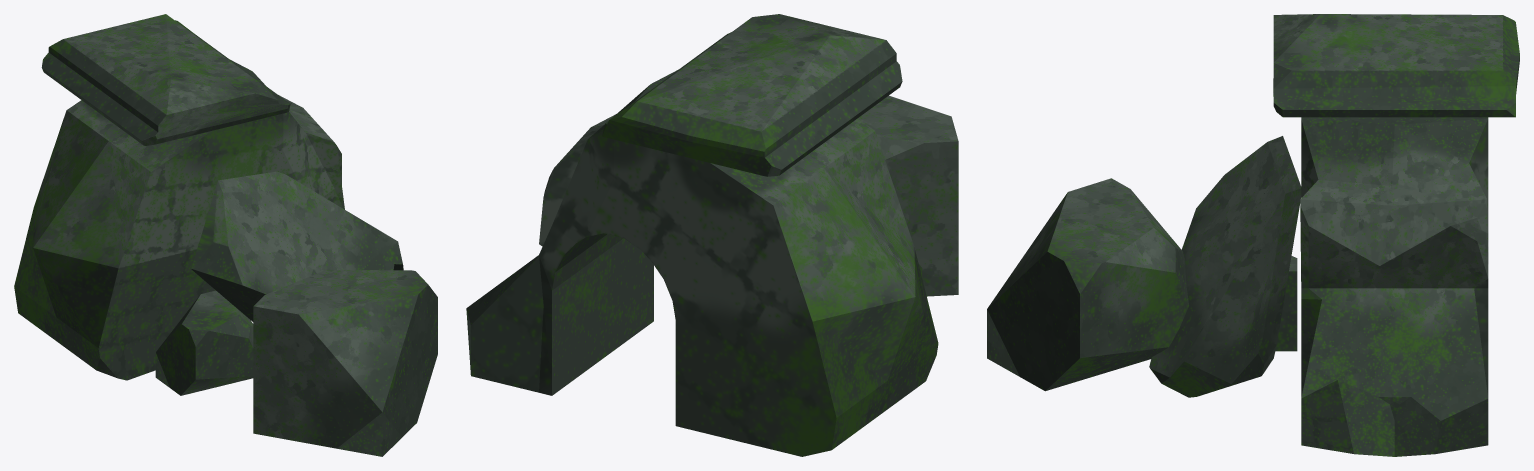
The model's file is castle_door_ruin.fbx.
3 views of the same model, side by side, from view 1: azimuth 30°, elevation 25°; view 2: azimuth 150°, elevation 25°; view 3: azimuth 270°, elevation 25° (orthographic). The views are drawn at different scales.
Parts seen in each view (by area): view 1: Porte en ruine; view 2: Porte en ruine; view 3: Porte en ruine.
Part boxes in pixels (bbox=[...]): Porte en ruine: bbox=[14, 14, 437, 456]; Porte en ruine: bbox=[466, 14, 958, 456]; Porte en ruine: bbox=[987, 14, 1519, 456].
Bounding box in the file's own units: 310 × 243 × 368.
Materials: 1 (1 with a texture image).
